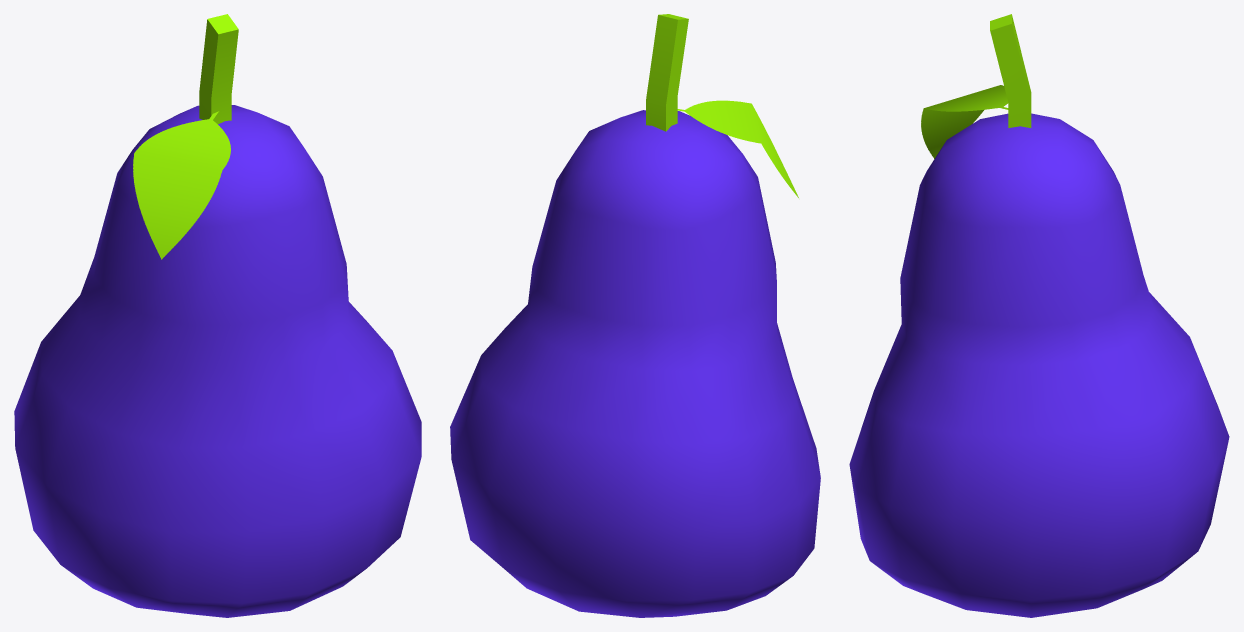
The model's file is aubergine.fbx.
The picture shows the model from 3 angles, left to right: view 1: azimuth 30°, elevation 25°; view 2: azimuth 150°, elevation 25°; view 3: azimuth 270°, elevation 25°; orthographic projection. The views are drawn at different scales.
Visible parts, largest first — view 1: aubergine; view 2: aubergine; view 3: aubergine.
Part boxes in pixels (left/top/right/bottom): aubergine: left=14, top=14, right=421, bottom=617; aubergine: left=450, top=14, right=820, bottom=617; aubergine: left=849, top=14, right=1229, bottom=617.
Bounding box in the file's own units: 14.18 × 23.2 × 14.18.
Materials: 1 (1 with a texture image).
